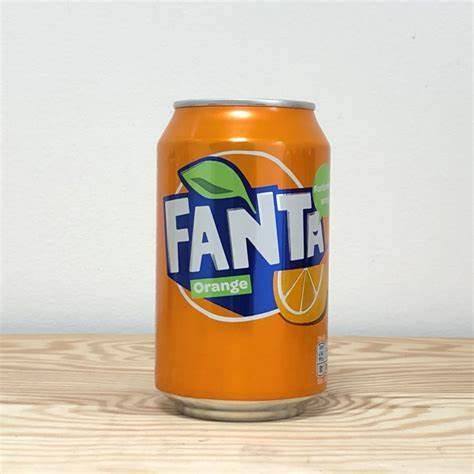metal: (156, 100, 330, 420)
